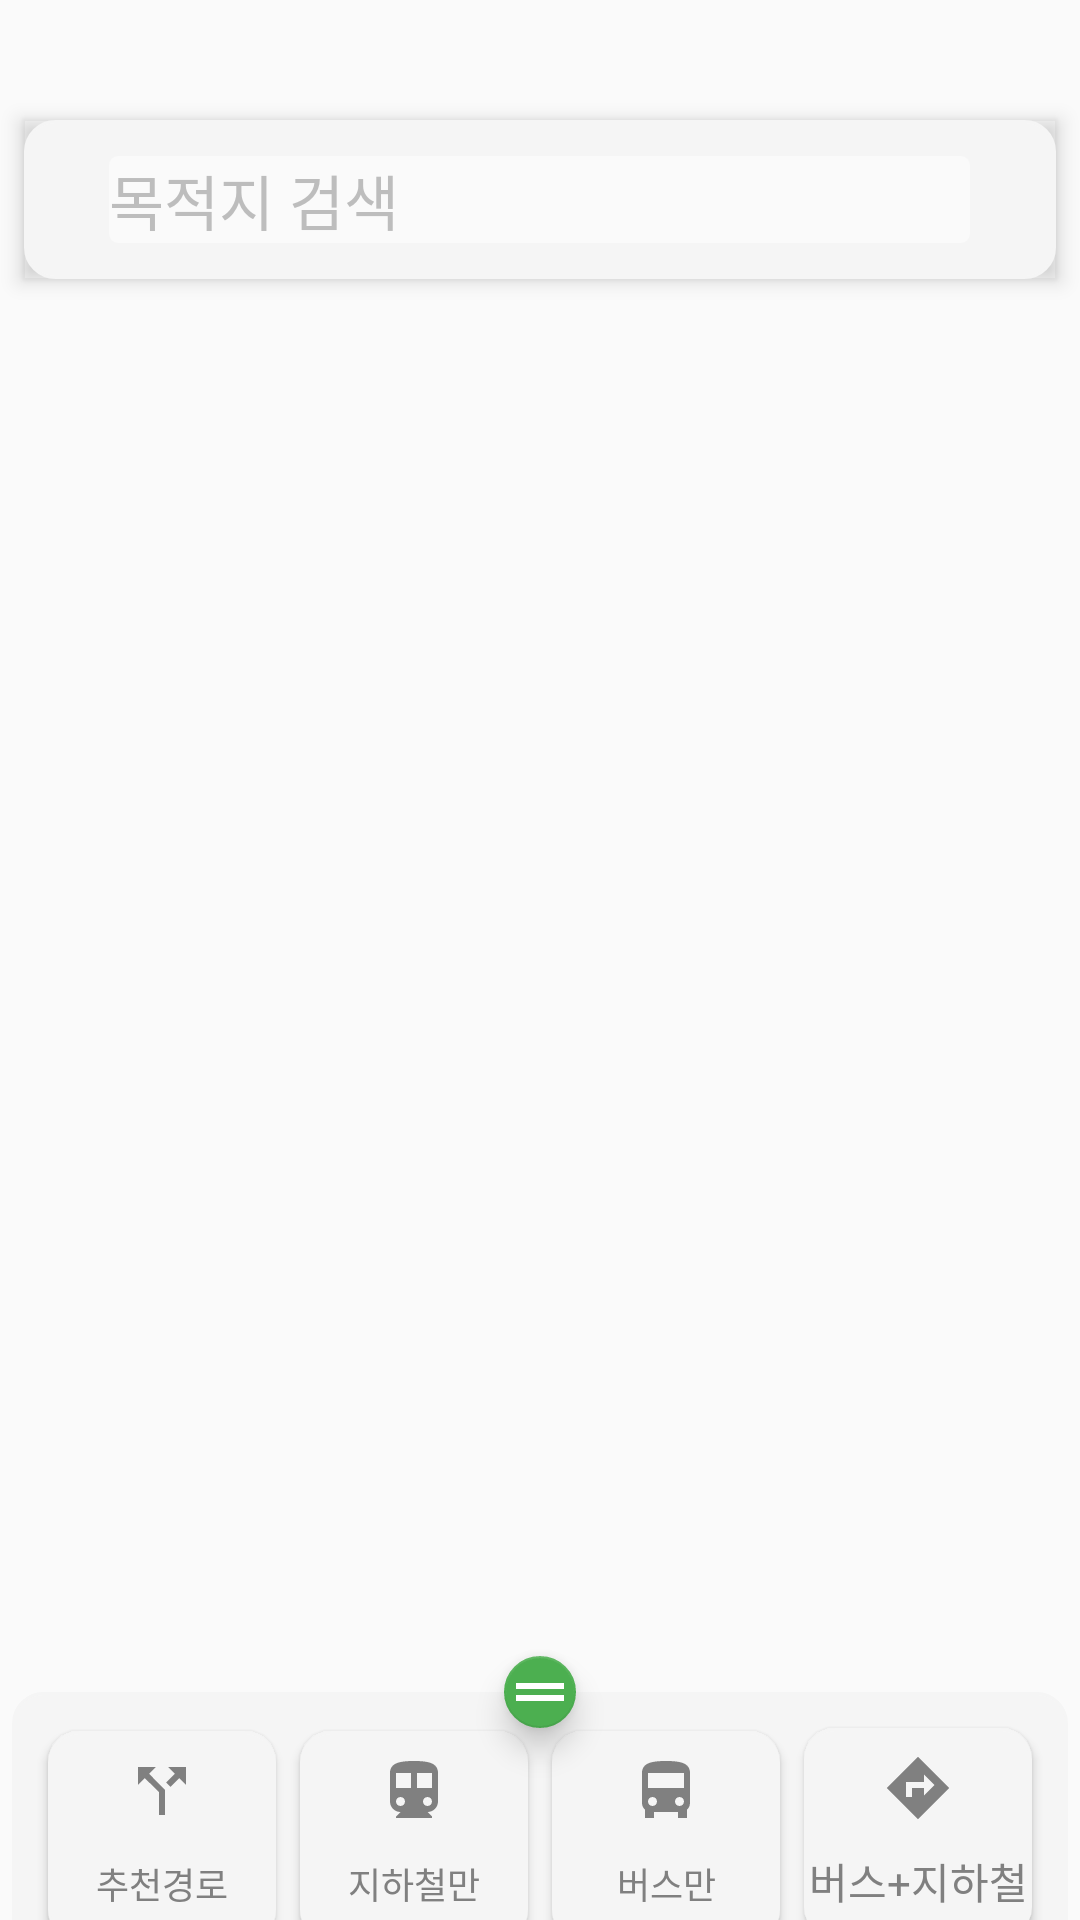

Point at icon controls on the screen. Image size 1080×1920, points as point (x, y).
drag handle: point (540, 1692)
